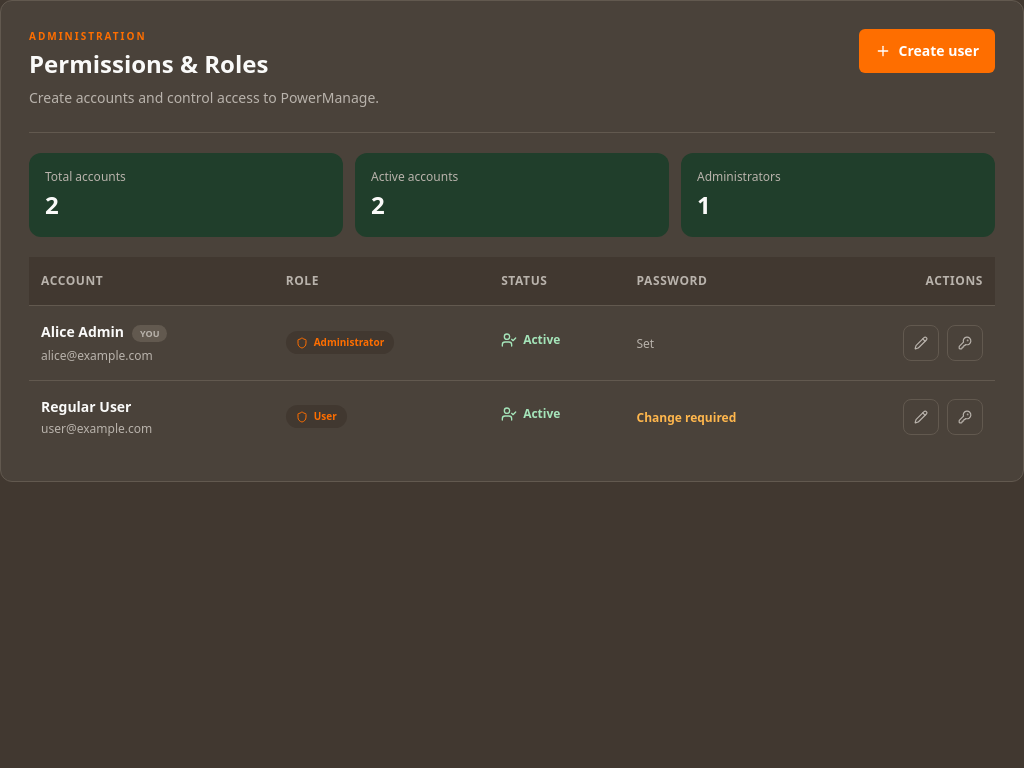
Test case: UserManagement › lists accounts and creates one with an administrator-chosen temporary password
Expected: the text "Regular User" is shown, [41, 396, 132, 416]
Click the button "Create user": click(927, 51) [858, 29, 995, 73]
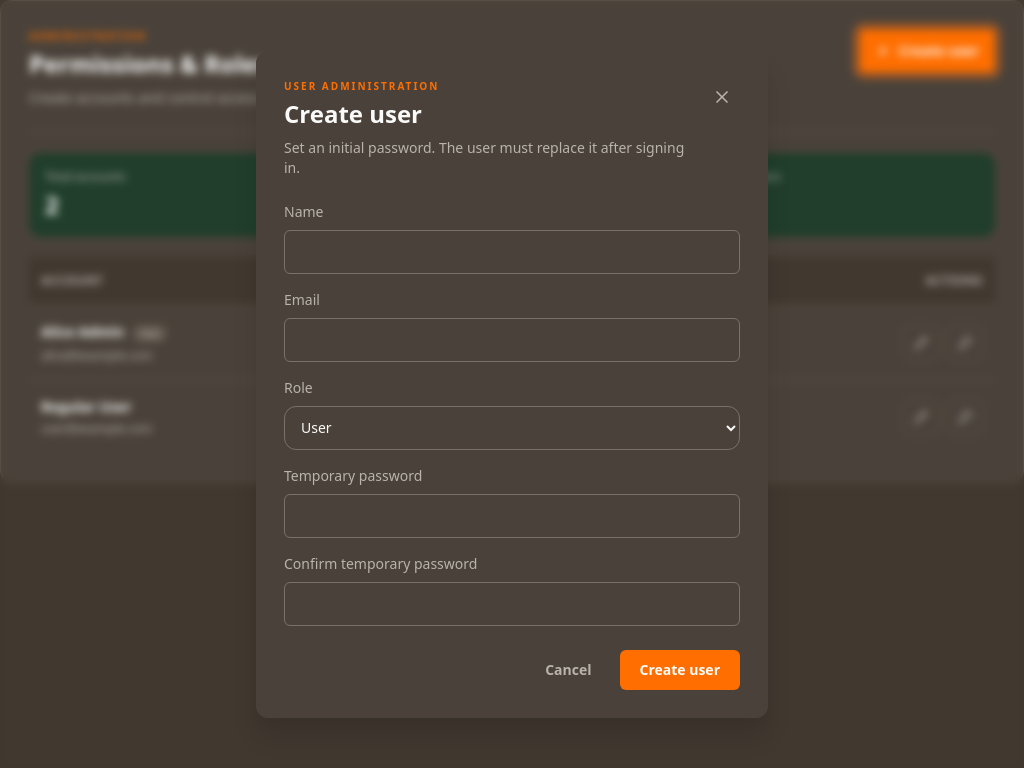
In the field labelled "Name": (512, 252) [284, 230, 740, 274], type "New Operator"
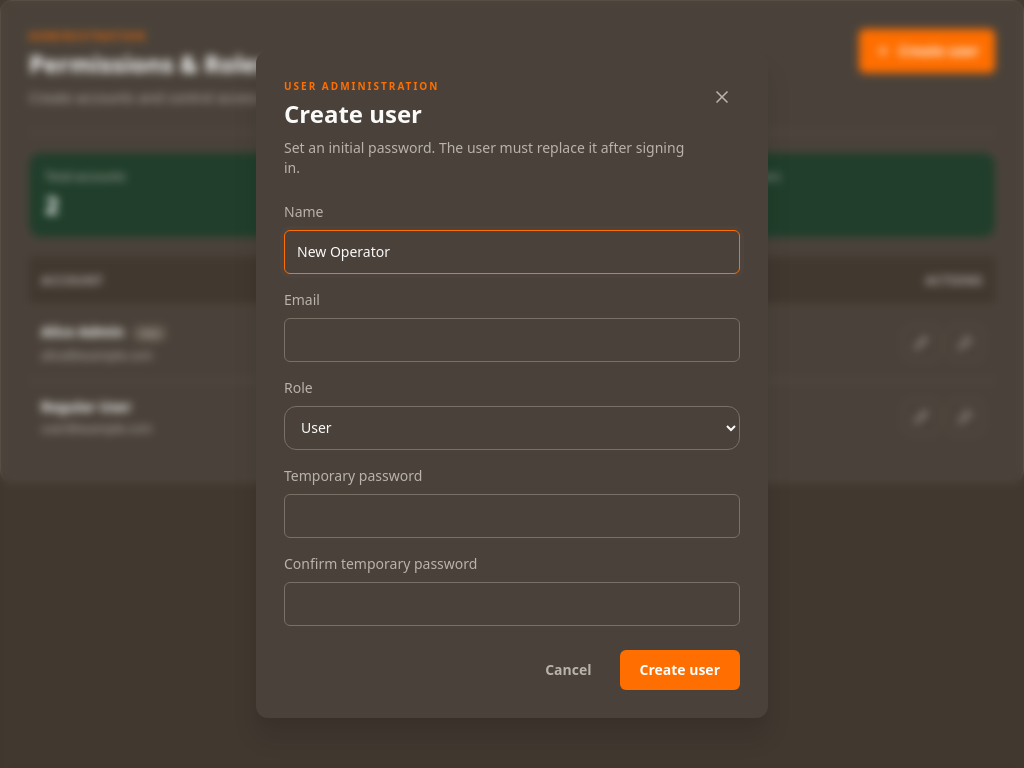
In the field labelled "Email": (512, 340) [284, 318, 740, 362], type "operator@example.com"
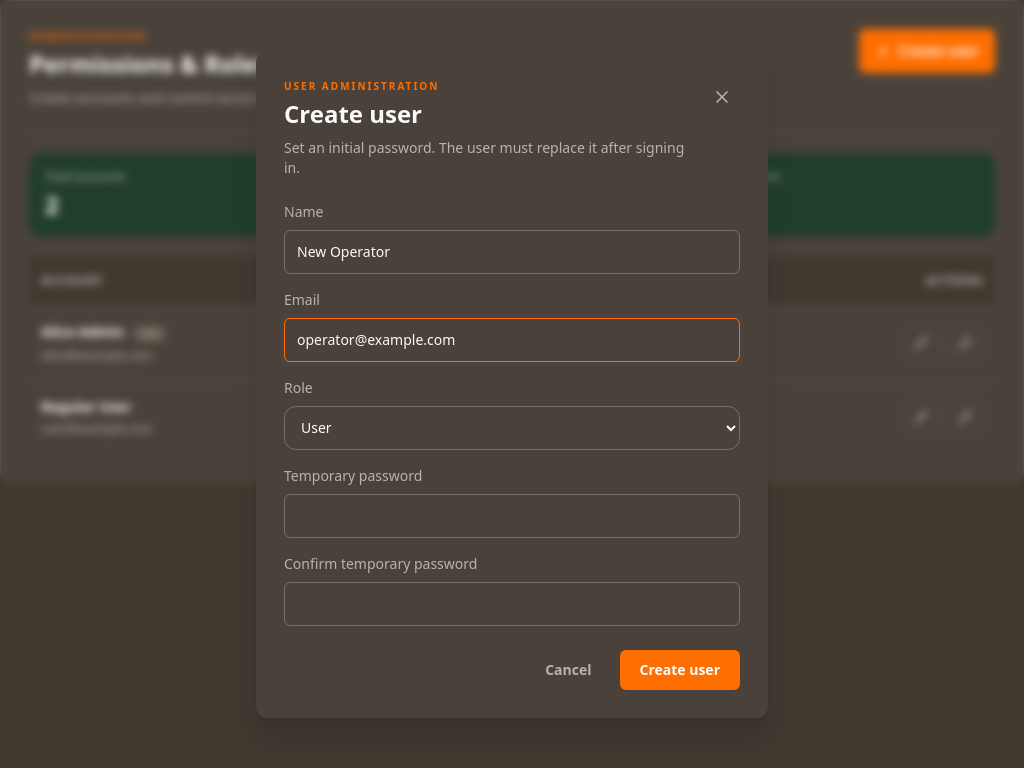
In the password field labelled "Temporary password": (512, 516) [284, 494, 740, 538], type "TemporaryPassword3!"
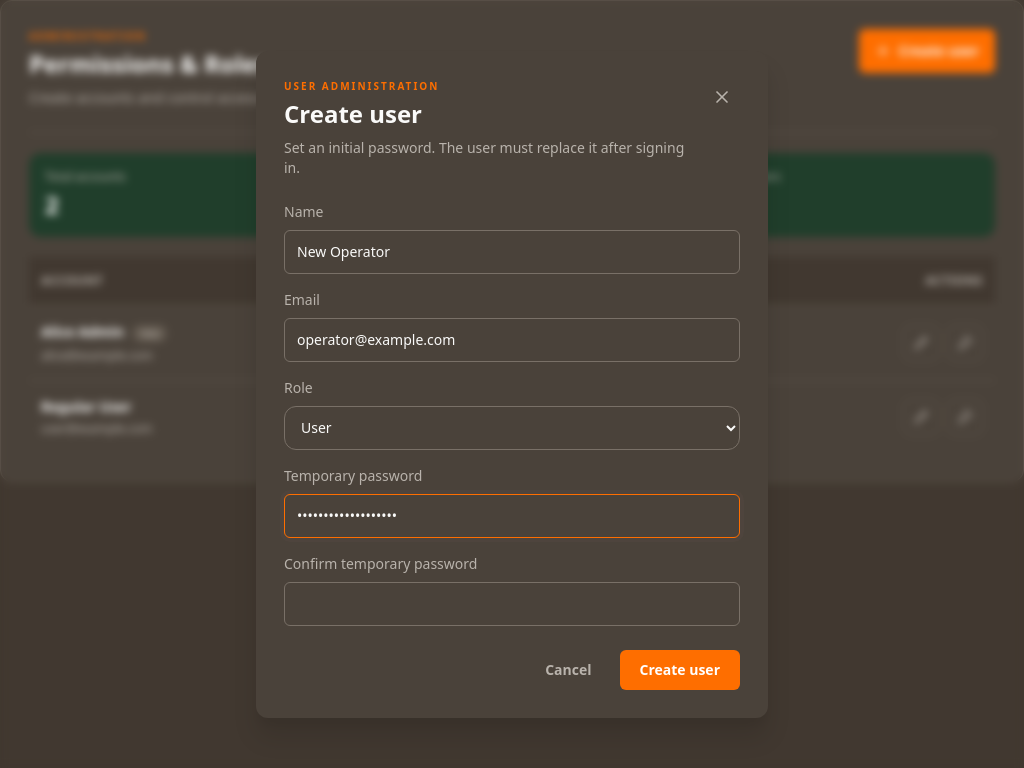
In the password field labelled "Confirm temporary password": (512, 604) [284, 582, 740, 626], type "TemporaryPassword3!"
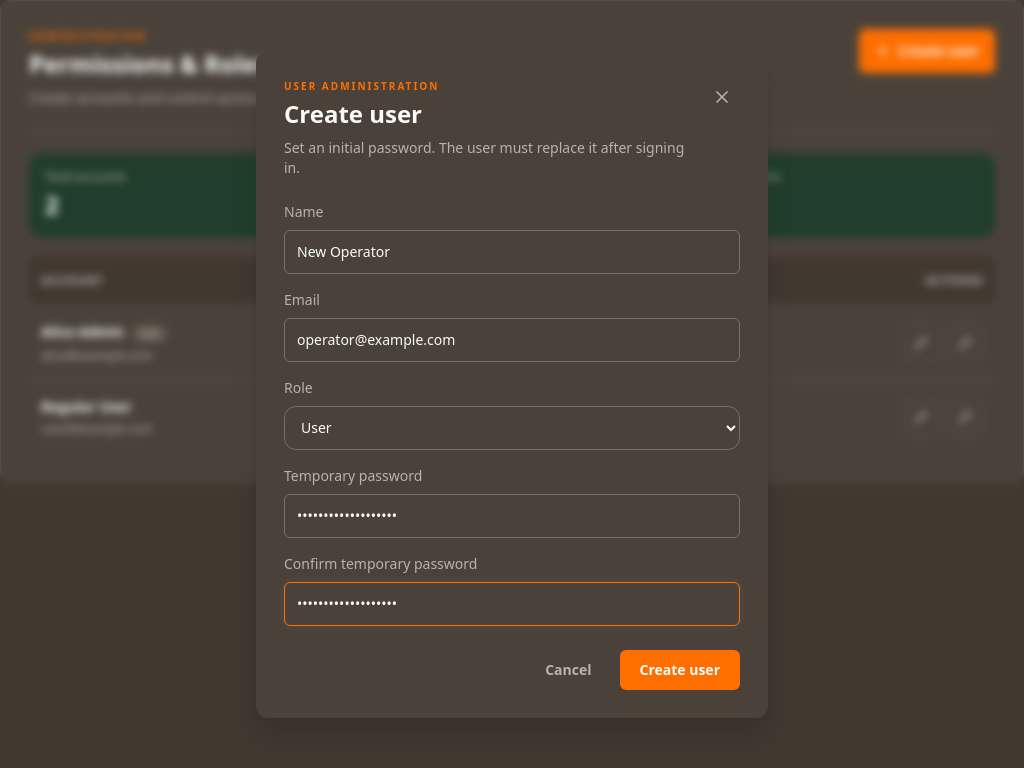
Click the button "Create user": click(680, 670) [620, 650, 740, 690]
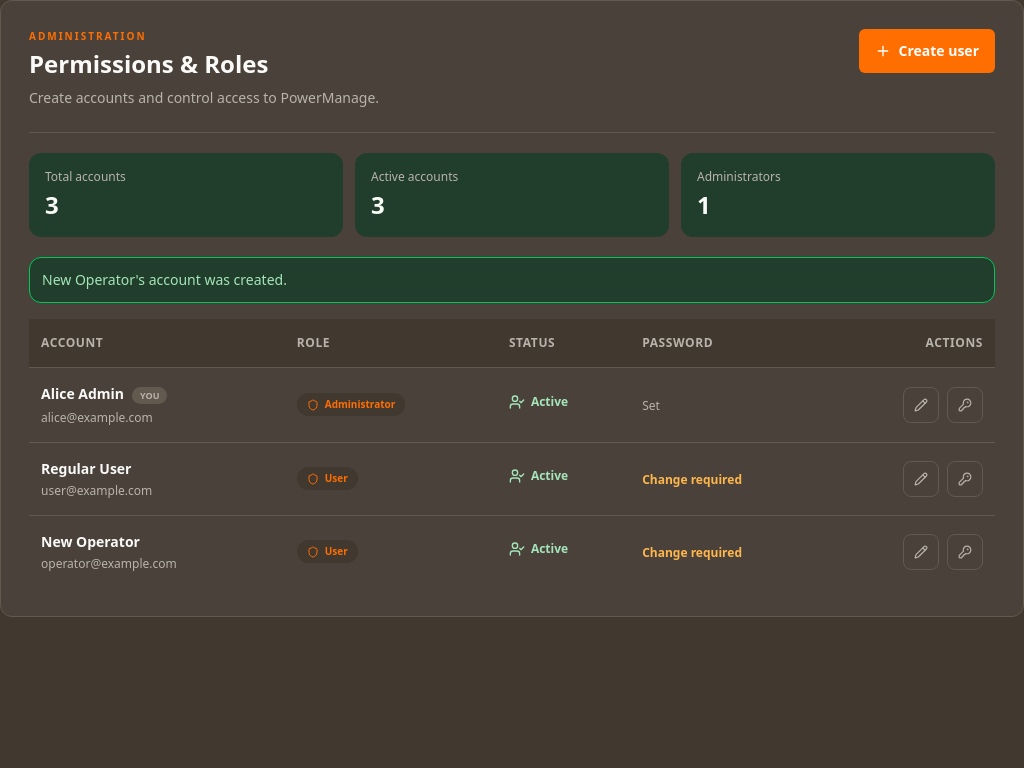
Expected: the text "New Operator" is shown, [41, 532, 140, 550]
